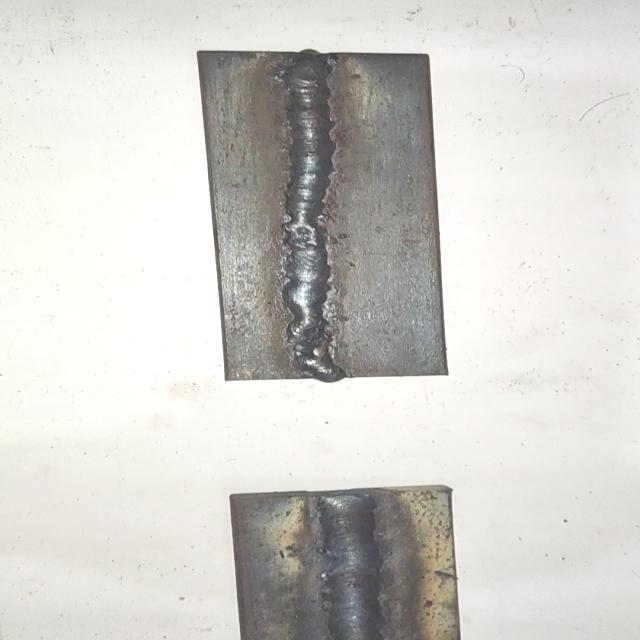Bad Weld: (282, 51, 334, 376)
Defect: (276, 316, 353, 378), (269, 212, 350, 252)
Good Weld: (319, 492, 384, 640)
